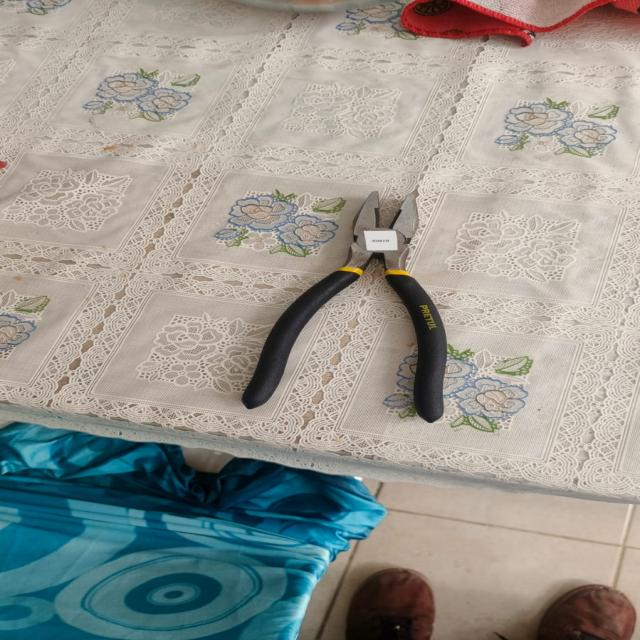alicate: (249, 184, 457, 443)
